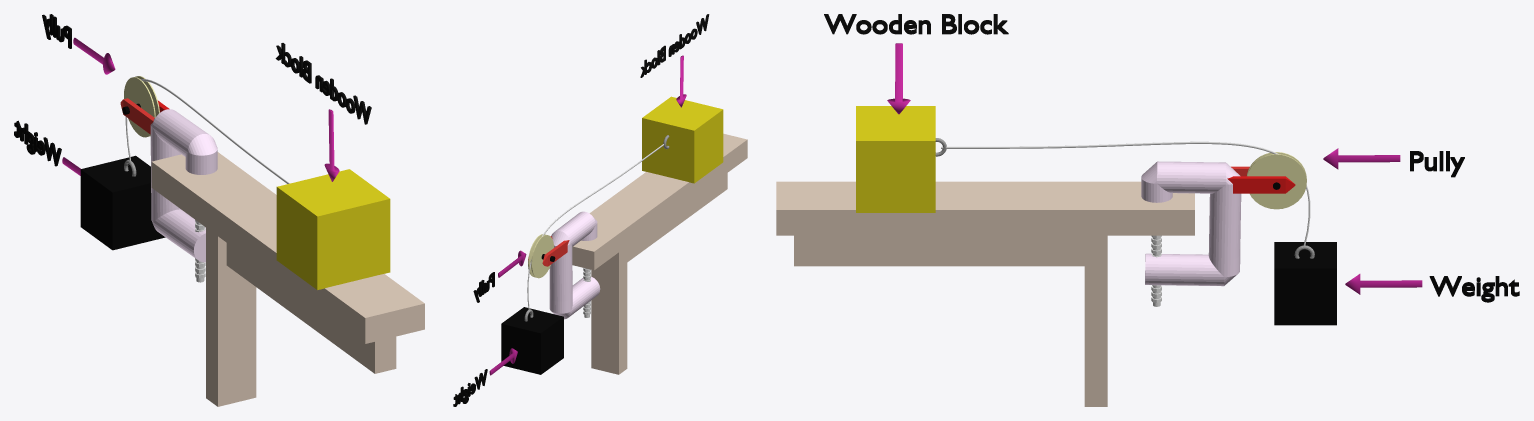
Rendered from work pully.gltf.
The picture shows the model from 3 angles, left to right: view 1: azimuth 30°, elevation 25°; view 2: azimuth 150°, elevation 25°; view 3: azimuth 270°, elevation 25°; orthographic projection. The views are drawn at different scales.
Parts seen in each view (by area): view 1: Cube, Cube.001, Cube.004, Cylinder.002, Text.002, Cylinder.003, Text, NurbsPath, Cube.003, Text.001, Cylinder.005, Cylinder.006; view 2: Cube, Cube.001, Cube.004, Cylinder.002, Text.002, Cylinder.003, Text, NurbsPath, Cube.003, Text.001; view 3: Cube, Cube.001, Cylinder.002, Cube.004, Cylinder.003, Text.002, NurbsPath, Text, Cube.002, Cylinder.007, Cylinder.006, Text.001 (+1 smaller).
Part boxes in pixels (x1,y1,x2,y2): Cube: (151,152,424,406); Cube.001: (276,169,390,289); Cube.004: (80,155,165,250); Cylinder.002: (150,109,217,262); Text.002: (275,43,371,124); Cylinder.003: (124,76,159,137); Text: (14,120,61,166); NurbsPath: (125,79,289,183); Cube.003: (120,98,154,134); Text.001: (42,14,71,48); Cylinder.005: (324,109,339,181); Cylinder.006: (73,37,115,74); Cube: (572,133,747,374); Cube.001: (642,96,723,183); Cube.004: (501,307,563,374); Cylinder.002: (549,211,600,319); Text.002: (640,14,709,77); Cylinder.003: (528,234,553,278); Text: (453,369,487,406); NurbsPath: (527,144,663,309); Cube.003: (542,240,569,266); Text.001: (473,272,494,302); Cube: (776,181,1194,406); Cube.001: (856,106,935,212); Cylinder.002: (1141,161,1241,286); Cube.004: (1274,242,1336,325); Cylinder.003: (1247,152,1306,209); Text.002: (824,14,1008,34); NurbsPath: (941,141,1310,245); Text: (1429,276,1519,302); Cube.002: (1227,176,1295,193); Cylinder.007: (1345,274,1422,294); Cylinder.006: (1323,148,1400,169); Text.001: (1410,151,1464,177).
Size of the model in its own units: 0.4535 by 2.33 by 4.09.
